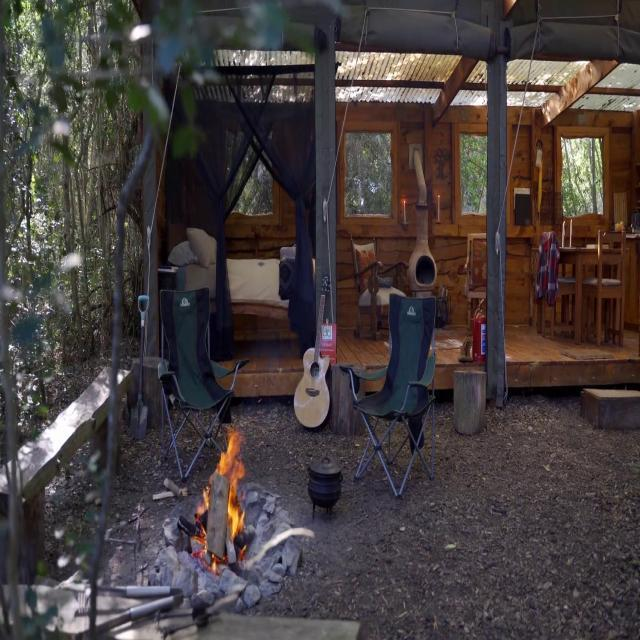Fire: (200, 412, 264, 564)
